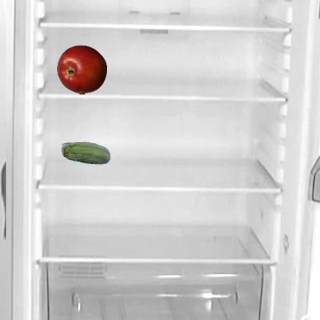Apple Braeburn: (56, 44, 106, 94)
Corn Husk: (60, 129, 110, 179)
